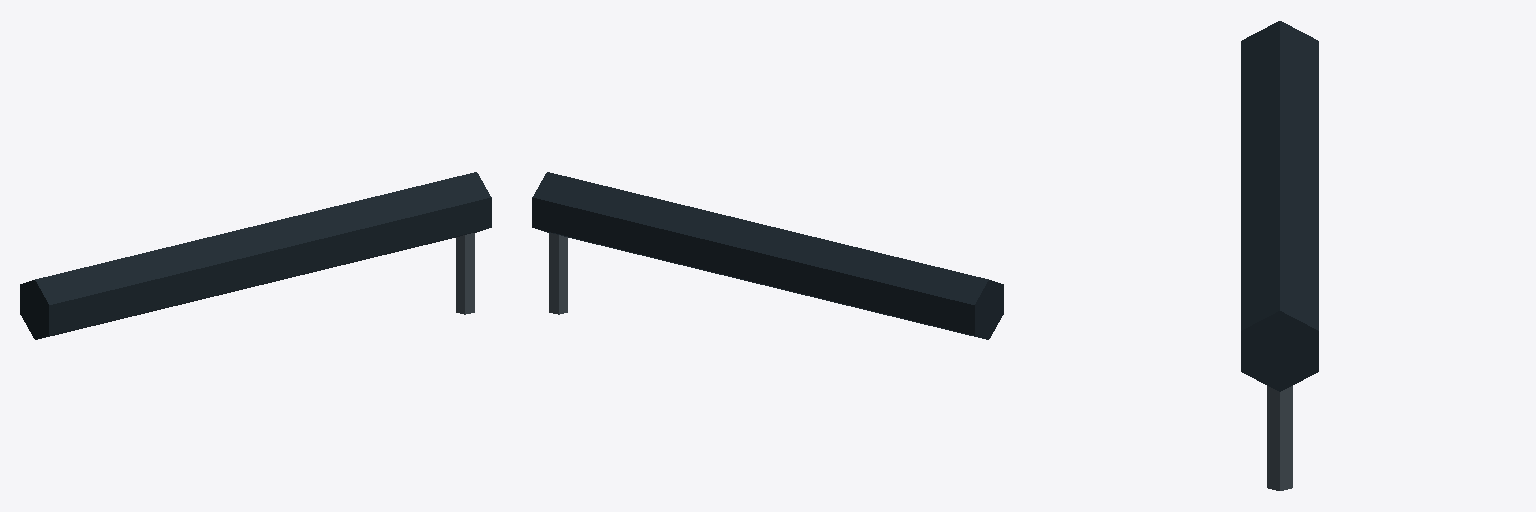
URDF robot description (allen_key_thick_handle):
<?xml version="1.0"?>
<robot name="allen_key_thick_handle">
  <link name="object_root">
    <!-- 30 mm across-flats grasp handle, matching the original policy's
         screwdriver handle range. The engaged short leg remains 10 mm. -->
    <visual>
      <origin xyz="0.067 0 0" rpy="0 0 0"/>
      <geometry>
        <mesh filename="meshes/unit_hex_prism_x.obj" scale="0.264 0.0173205 0.0173205"/>
      </geometry>
      <material name="grip"><color rgba="0.16 0.20 0.23 1"/></material>
    </visual>
    <collision>
      <origin xyz="0.067 0 0" rpy="0 0 0"/>
      <geometry>
        <mesh filename="meshes/unit_hex_prism_x.obj" scale="0.264 0.0173205 0.0173205"/>
      </geometry>
    </collision>
    <visual>
      <origin xyz="0.192 0 -0.03" rpy="0 1.57079632679 0"/>
      <geometry>
        <mesh filename="meshes/unit_hex_prism_x.obj" scale="0.06 0.0057735 0.0057735"/>
      </geometry>
      <material name="steel"><color rgba="0.32 0.36 0.39 1"/></material>
    </visual>
    <collision>
      <origin xyz="0.192 0 -0.03" rpy="0 1.57079632679 0"/>
      <geometry>
        <mesh filename="meshes/unit_hex_prism_x.obj" scale="0.06 0.0057735 0.0057735"/>
      </geometry>
    </collision>
    <inertial>
      <origin xyz="0.070 0 -0.002" rpy="0 0 0"/>
      <mass value="0.18"/>
      <inertia ixx="0.000025" iyy="0.00105" izz="0.00105" ixy="0" ixz="0" iyz="0"/>
    </inertial>
  </link>
</robot>

--- Facts derived from the render (not from the file) ---
3 views of the same robot in one strip: view 1: azimuth 30°, elevation 25°; view 2: azimuth 150°, elevation 25°; view 3: azimuth 270°, elevation 25° (orthographic).
Model allen_key_thick_handle with 1 links and 0 joints (none), rooted at object_root, posed all joints at 0.
Links seen in each view (by area): view 1: object_root; view 2: object_root; view 3: object_root.
Boxes of the visible links, x1=… form: object_root: x1=20, y1=172, x2=491, y2=339; object_root: x1=532, y1=172, x2=1003, y2=339; object_root: x1=1241, y1=21, x2=1318, y2=490.
Size in the robot's own frame: 0.264 by 0.03 by 0.0773 metres.
2 mesh visuals loaded from 1 distinct referenced files (1 OBJ).
